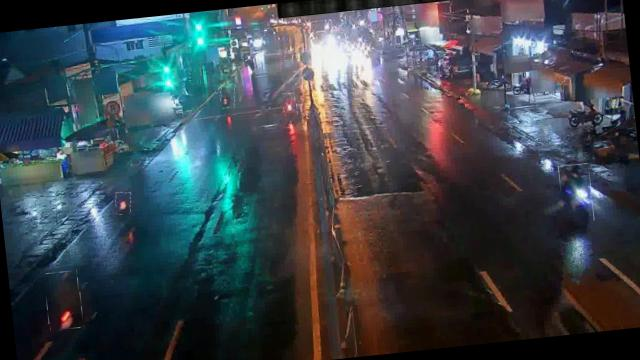Bike: (42, 270, 84, 331), (559, 162, 595, 224), (218, 83, 236, 109), (115, 192, 132, 215), (282, 93, 298, 116)
